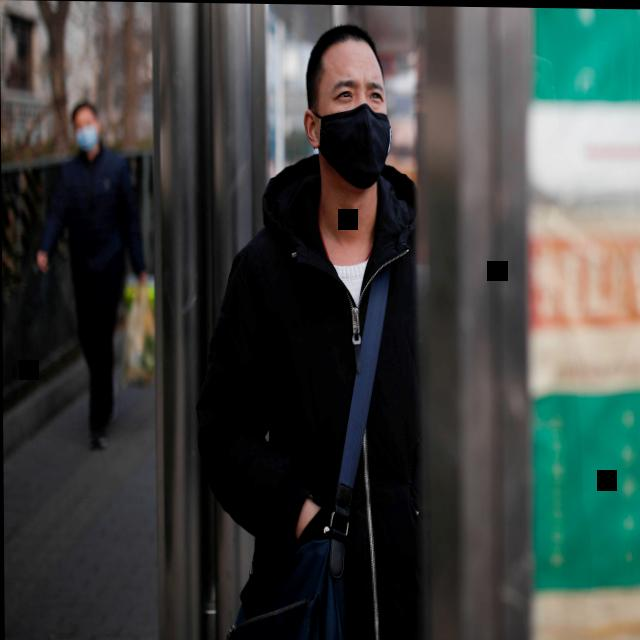Mask: (305, 20, 402, 195), (69, 99, 102, 157)
